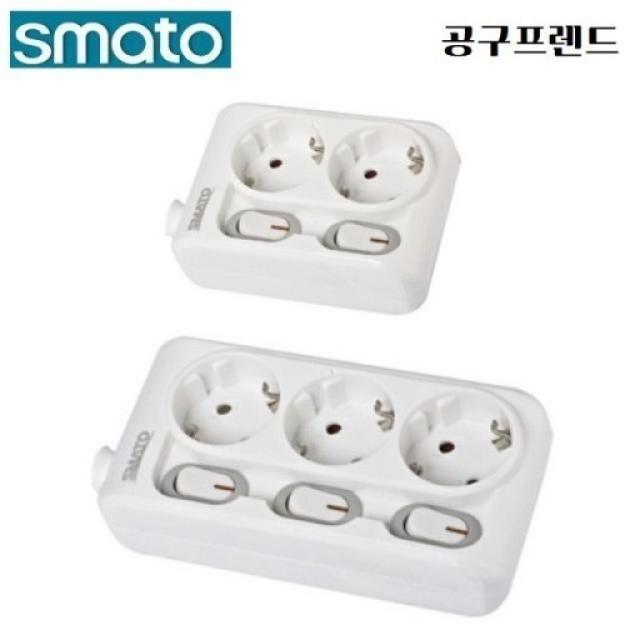typeb: (109, 317, 549, 593), (185, 104, 470, 294)
